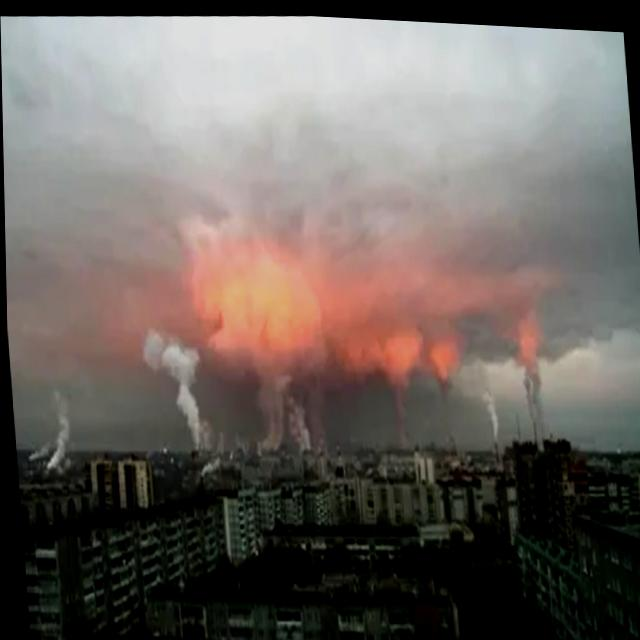no_helmet: (0, 0, 640, 412)
